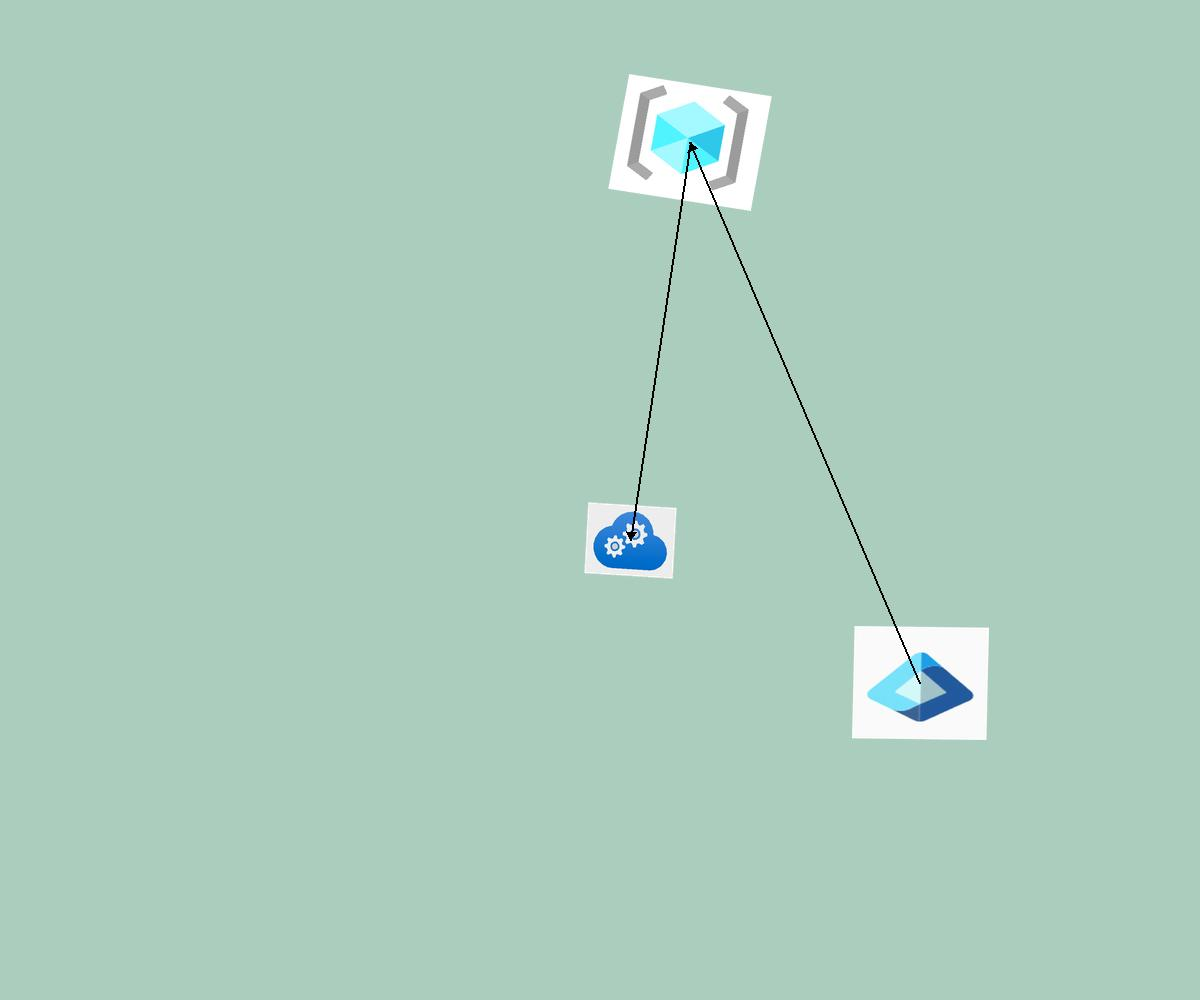Azure_cloud_services: (584, 502, 677, 579)
Azure_microsoft_entra: (852, 626, 989, 740)
Azure_resource_group: (608, 74, 772, 211)
